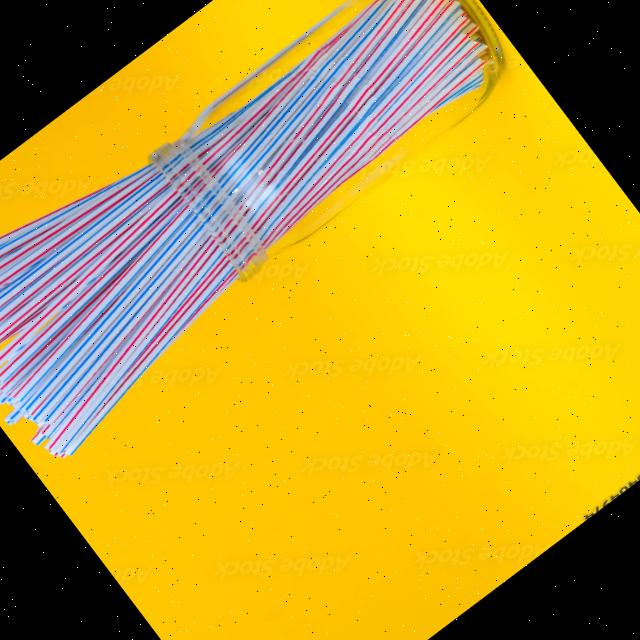plastic: (0, 188, 217, 394)
